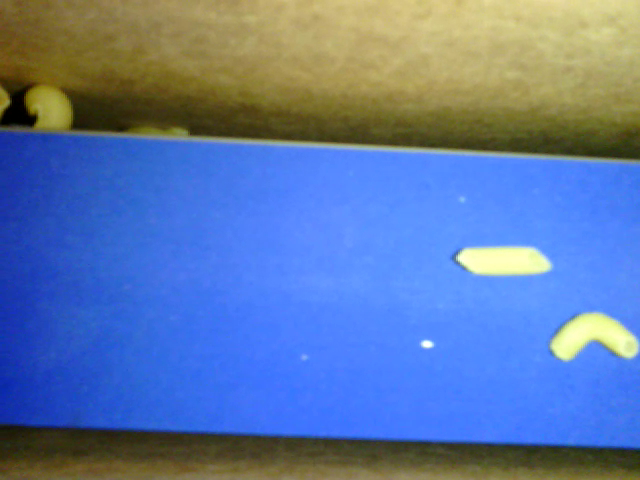elbow: (548, 312, 639, 366)
penne: (449, 245, 553, 280)
shell: (22, 82, 75, 134)
